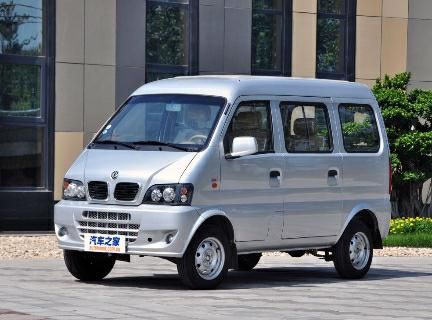东风小康-K17: (45, 74, 395, 287)
